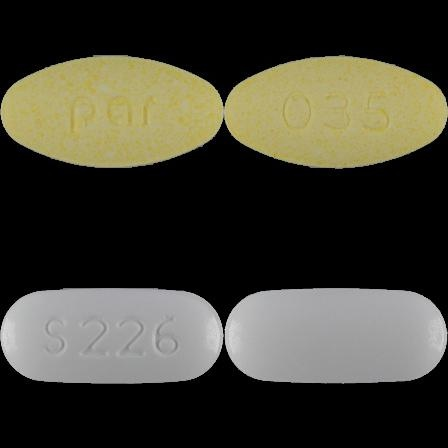51655-134: (0, 0, 224, 224)
